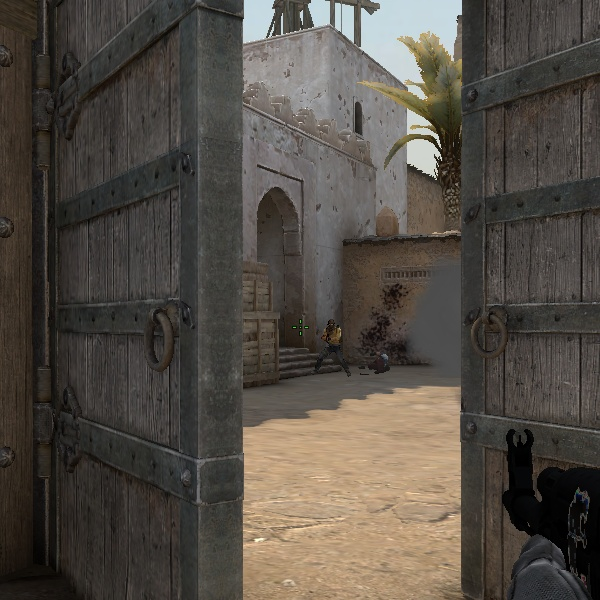t_body: (315, 315, 347, 373)
t_head: (325, 317, 339, 333)
